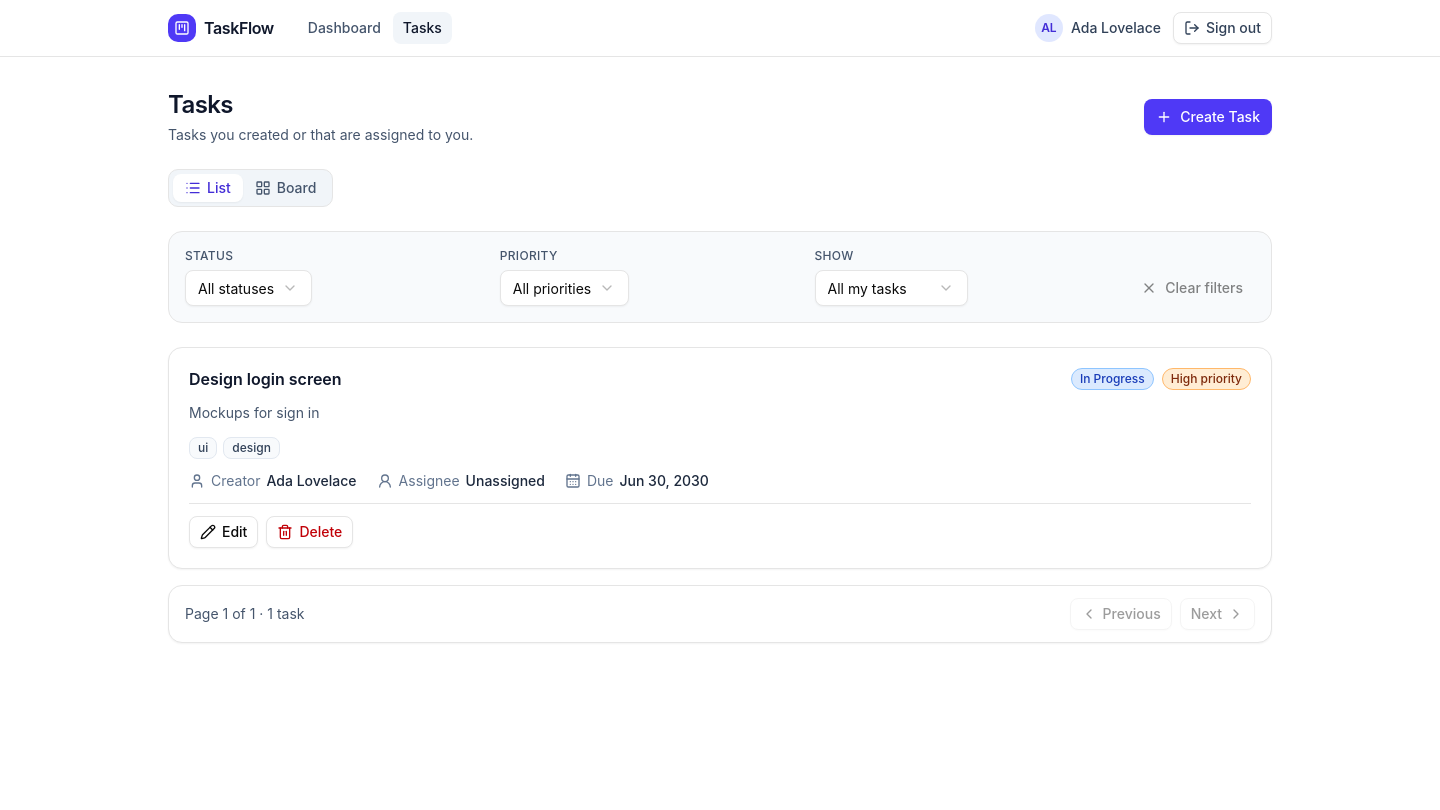
Scenario: edit task › shows a safe message for 403 from the API and keeps the values
This screenshot has width=1440, height=810.
Click the button with aria-label "Edit task: Design login screen".
click(224, 532)  # box [189,516,258,548]
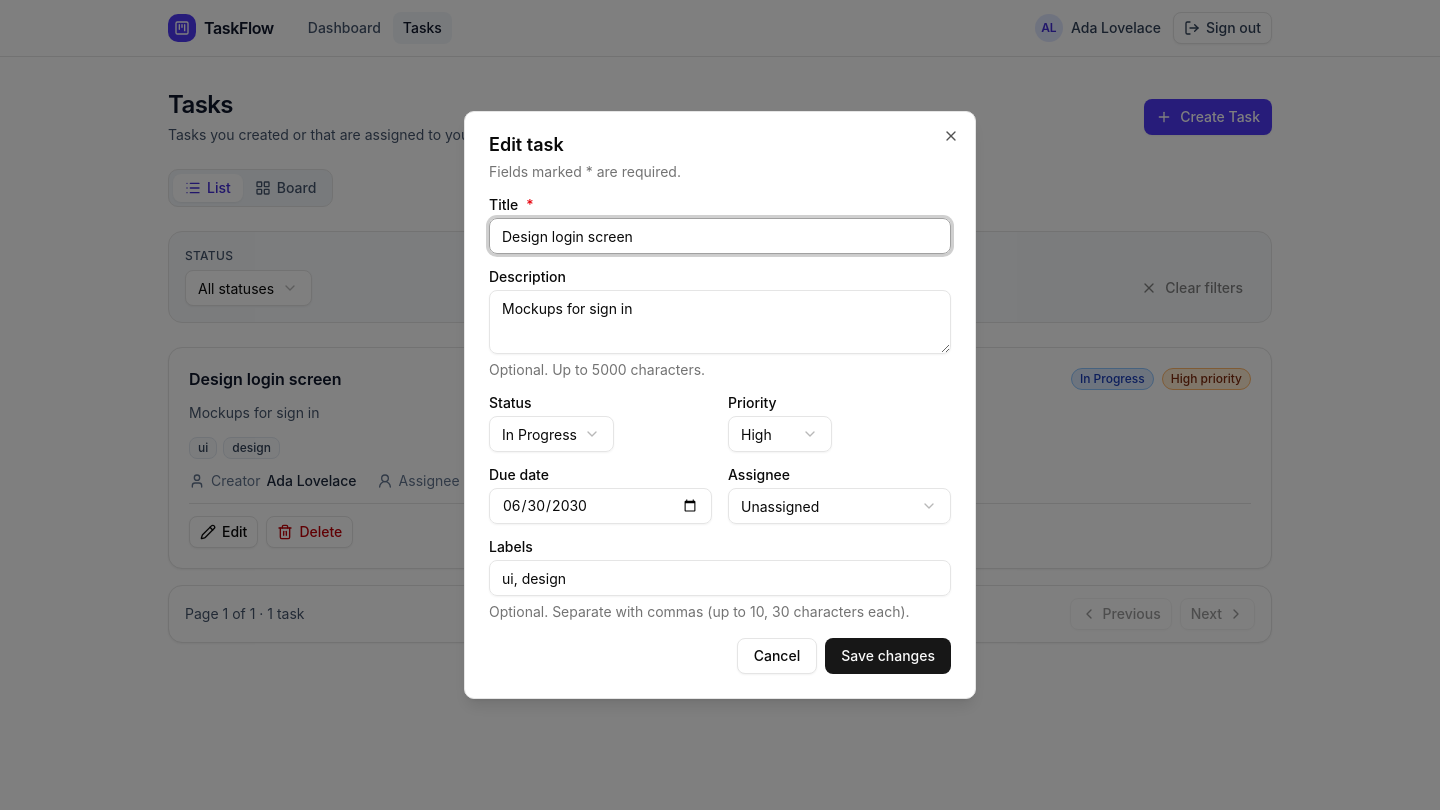
Select "Critical" in the dropdown labelled "Priority" at (780, 434), box [728,416,832,452]
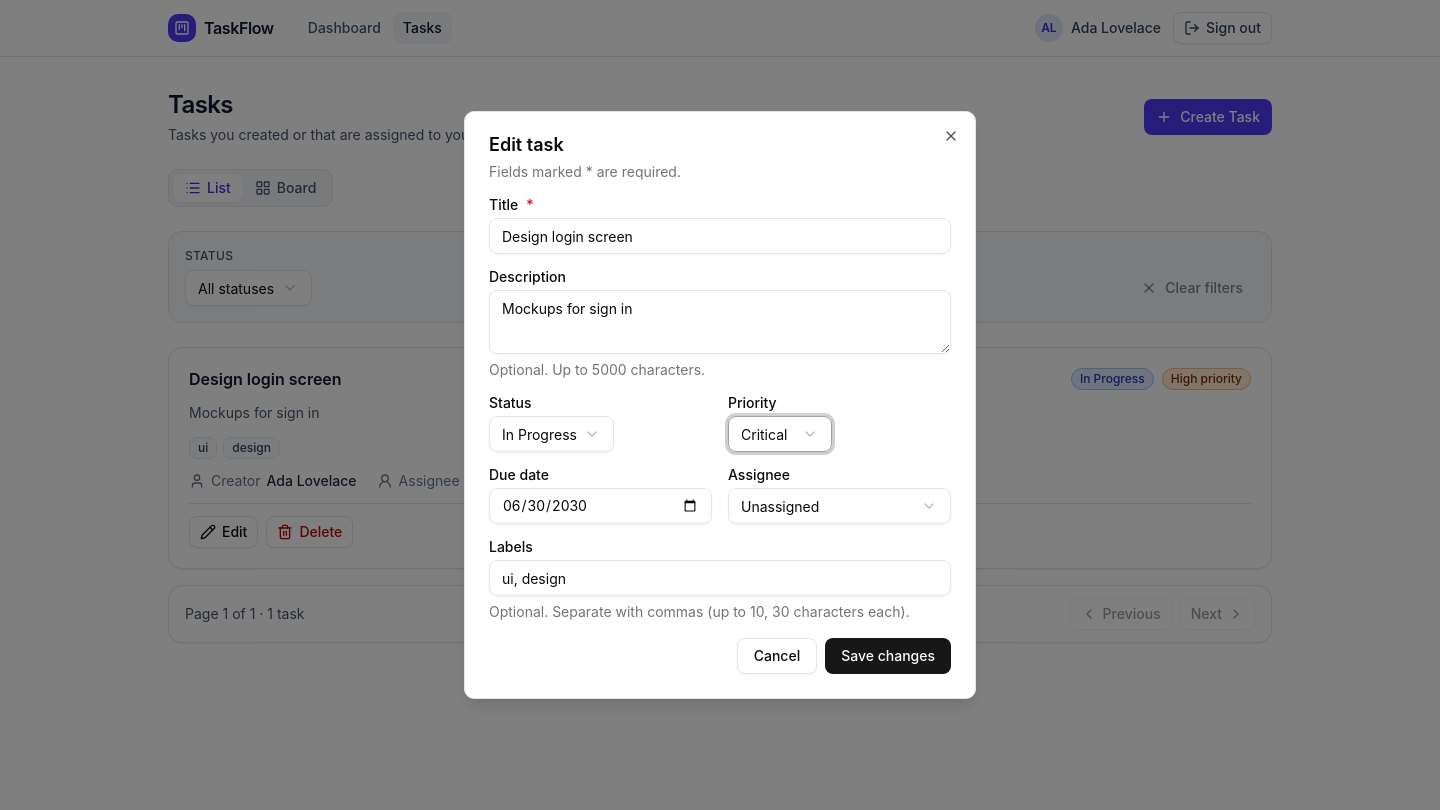
Click the button "Save changes".
click(888, 656)  # box [825,638,951,674]
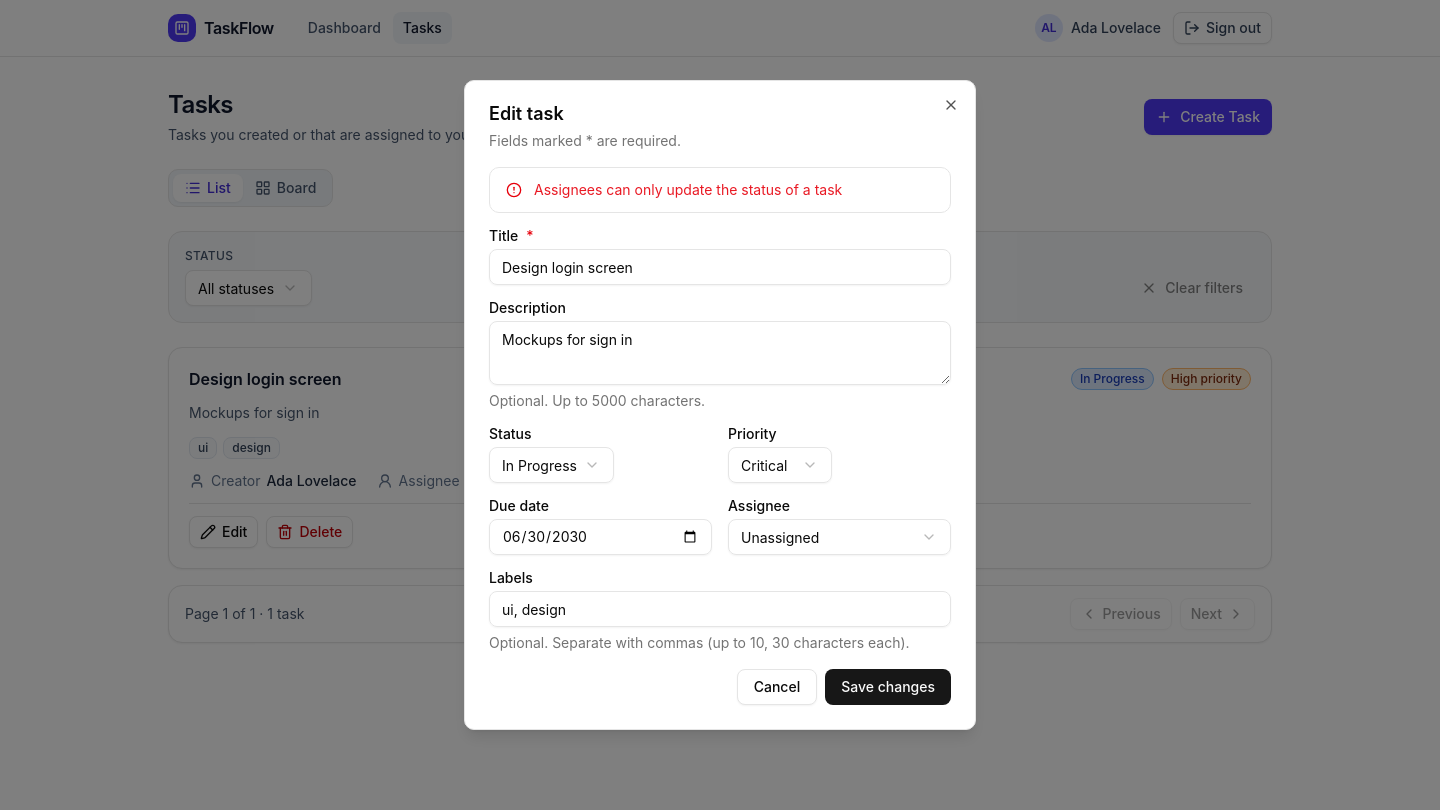
Expected: the message does not show "secret", [489,167,951,213]
Expected: the message reads "Assignees can only update the status of a task", [534,181,842,198]
